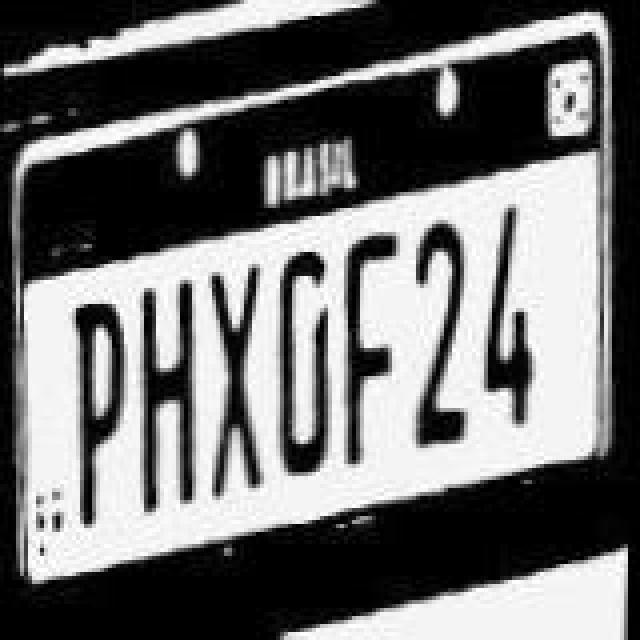2: (402, 216, 478, 452)
4: (482, 202, 542, 430)
D: (266, 248, 342, 480)
F: (338, 226, 398, 470)
H: (132, 278, 208, 518)
P: (64, 296, 132, 528)
X: (204, 266, 272, 498)
